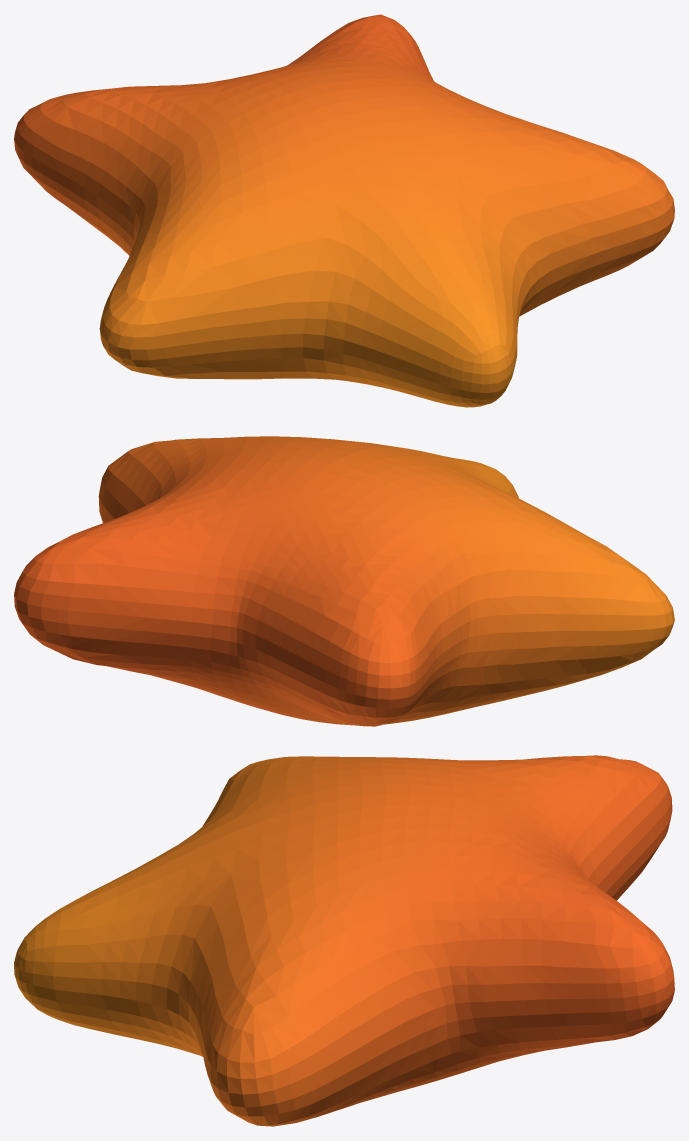
The model's file is star.obj.
3 views of the same model, one above another, from view 1: azimuth 30°, elevation 25°; view 2: azimuth 150°, elevation 25°; view 3: azimuth 270°, elevation 25° (orthographic). The views are drawn at different scales.
Visible parts, largest first — view 1: Object.1; view 2: Object.1; view 3: Object.1.
Part boxes in pixels (x1=…): Object.1: x1=14, y1=14, x2=674, y2=407; Object.1: x1=14, y1=436, x2=674, y2=726; Object.1: x1=14, y1=755, x2=674, y2=1126.
Size of the model in its own units: 191 by 78.16 by 177.
1 material, 1 textured.
